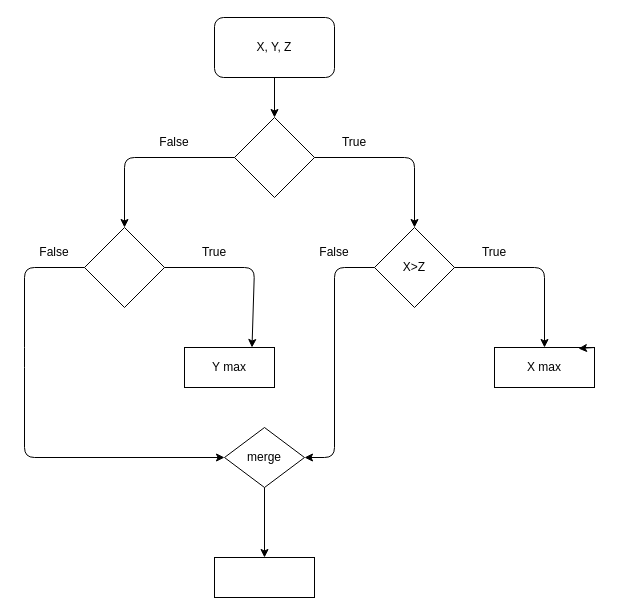
Some shapes in this 620 by 615 pixel diagram are drawn without their labels. The box of each missing label's shape, as (x1, y1, x2, y2) in pixels:
X >Y: (234, 116, 314, 198)
Y>Z: (84, 226, 164, 308)
Z max: (214, 556, 314, 598)
